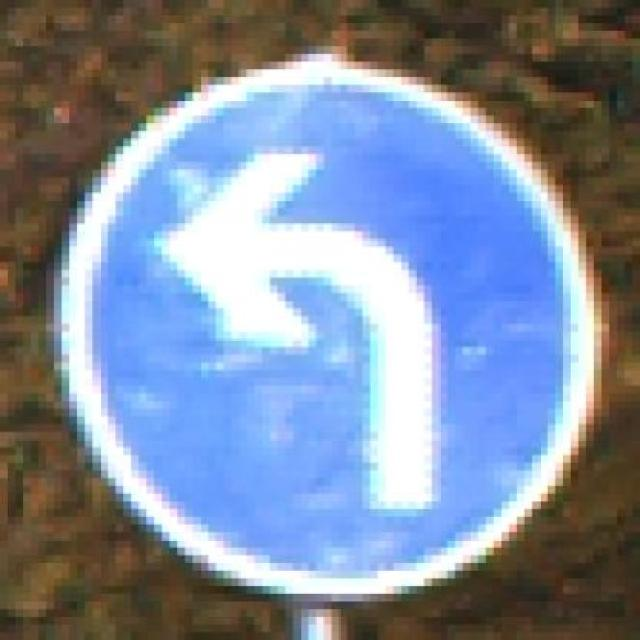Turn left ahead: (38, 31, 610, 594)
